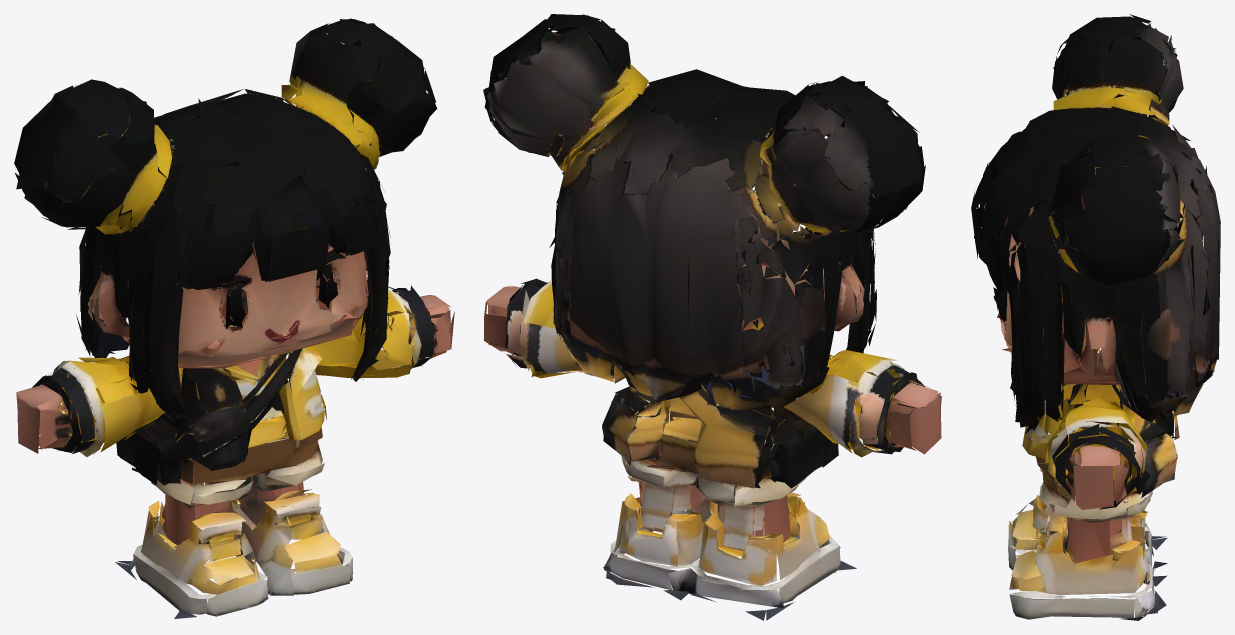
Rendered from mika_game.glb.
The picture shows the model from 3 angles, left to right: view 1: azimuth 30°, elevation 25°; view 2: azimuth 150°, elevation 25°; view 3: azimuth 270°, elevation 25°; orthographic projection. The views are drawn at different scales.
Parts seen in each view (by area): view 1: Body; view 2: Body; view 3: Body.
Boxes of the visible parts, box(x1,y1,x2,y2) form: Body: box(14, 18, 454, 618); Body: box(483, 14, 941, 620); Body: box(971, 14, 1220, 620).
Size of the model in its own units: 0.6279 by 0.7264 by 0.327.
1 material, 1 textured.
